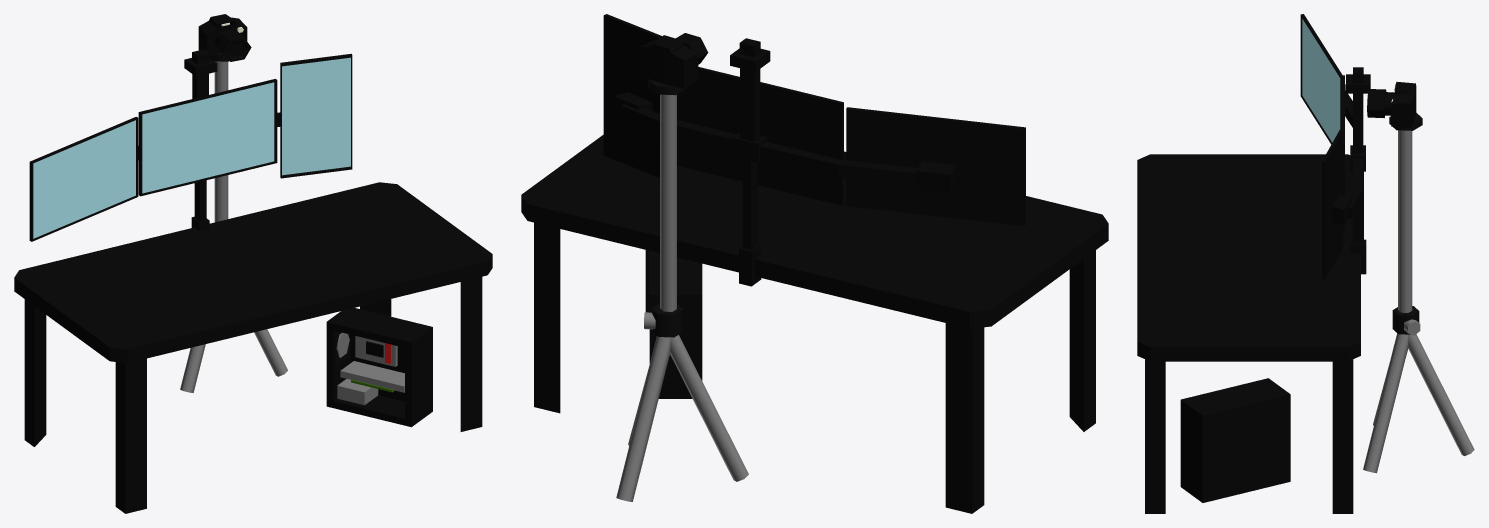
Rendered from DESKSETUP.fbx.
3 renders of one model, left to right at view 1: azimuth 30°, elevation 25°; view 2: azimuth 150°, elevation 25°; view 3: azimuth 270°, elevation 25°, orthographic. The views are drawn at different scales.
Visible parts, largest first — view 1: Box025; view 2: Box025; view 3: Box025.
Boxes of the visible parts, box(x1,y1,x2,y2) form: Box025: box(14, 14, 492, 513); Box025: box(521, 14, 1108, 513); Box025: box(1137, 14, 1474, 513).
Size of the model in its own units: 578 by 503 by 420.
